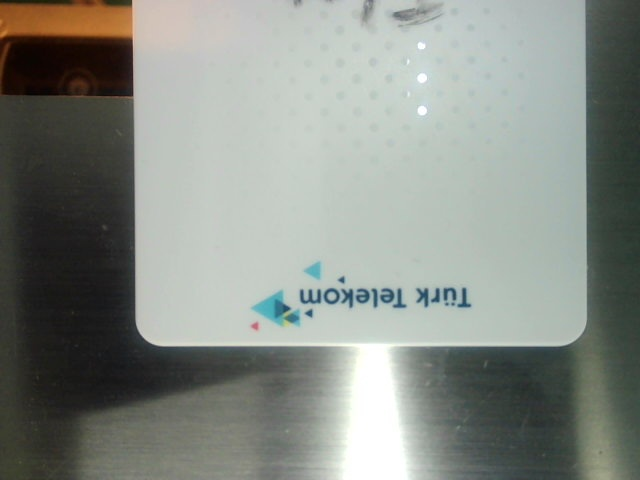AQ_TURKTelekom: (234, 253, 478, 335)
